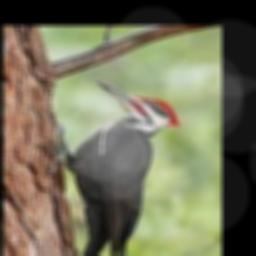Woodpecker: (40, 80, 180, 256)
